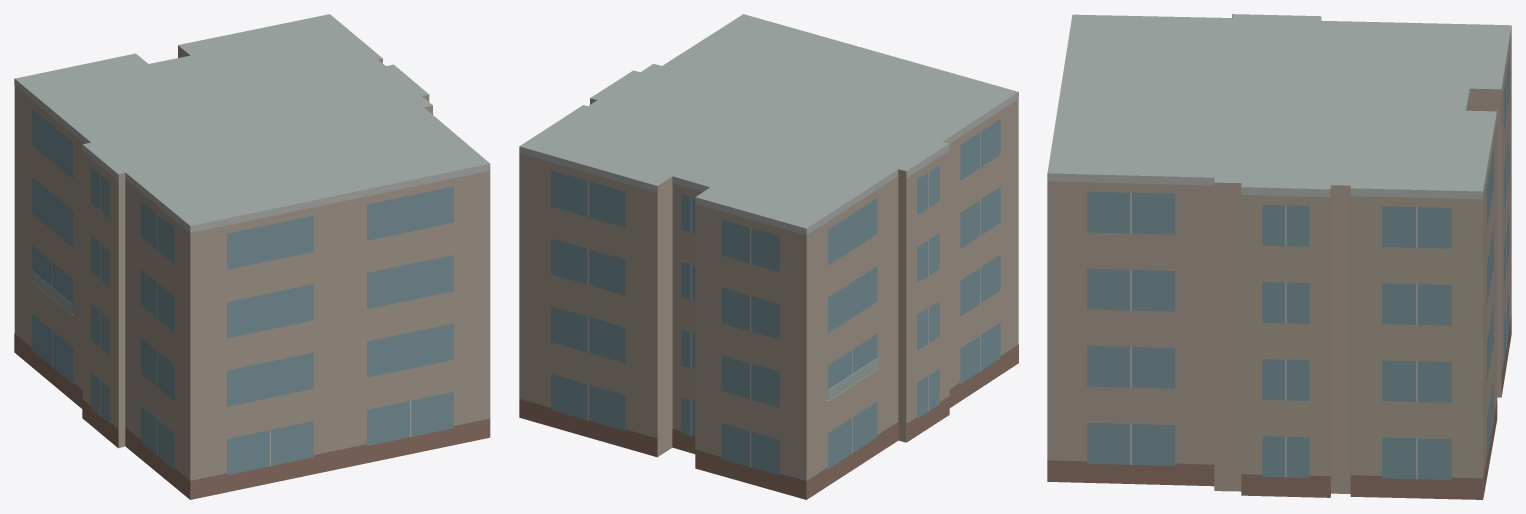
The model's file is survey-upis-32829483.glb.
3 renders of one model, left to right at view 1: azimuth 30°, elevation 25°; view 2: azimuth 150°, elevation 25°; view 3: azimuth 270°, elevation 25°, orthographic. The views are drawn at different scales.
Visible parts, largest first — view 1: survey-upis-32829483.tmp; view 2: survey-upis-32829483.tmp; view 3: survey-upis-32829483.tmp.
Part boxes in pixels (x1=…): survey-upis-32829483.tmp: x1=14, y1=14, x2=490, y2=499; survey-upis-32829483.tmp: x1=519, y1=14, x2=1018, y2=499; survey-upis-32829483.tmp: x1=1047, y1=14, x2=1511, y2=499.
Bounding box in the file's own units: 11.89 × 9.63 × 13.15.
